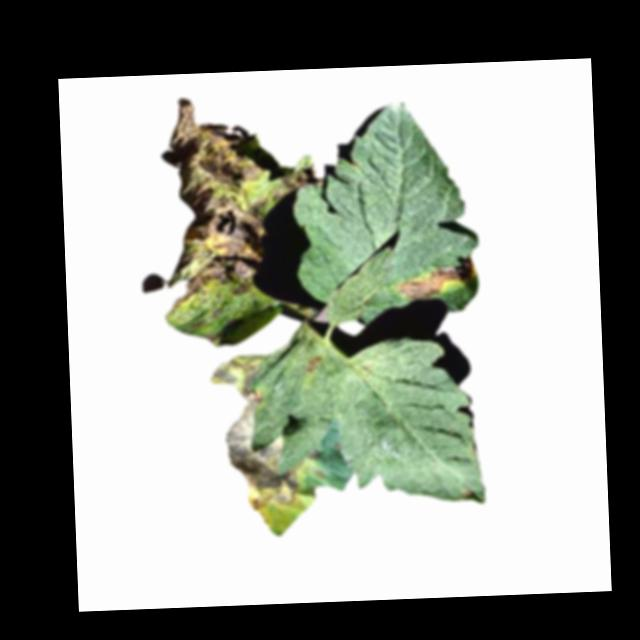Early_blight: (163, 95, 268, 310), (229, 397, 308, 510), (205, 352, 267, 399), (398, 260, 461, 298), (281, 164, 324, 191), (302, 352, 324, 374), (309, 462, 327, 481), (461, 486, 474, 501), (307, 447, 319, 459)
